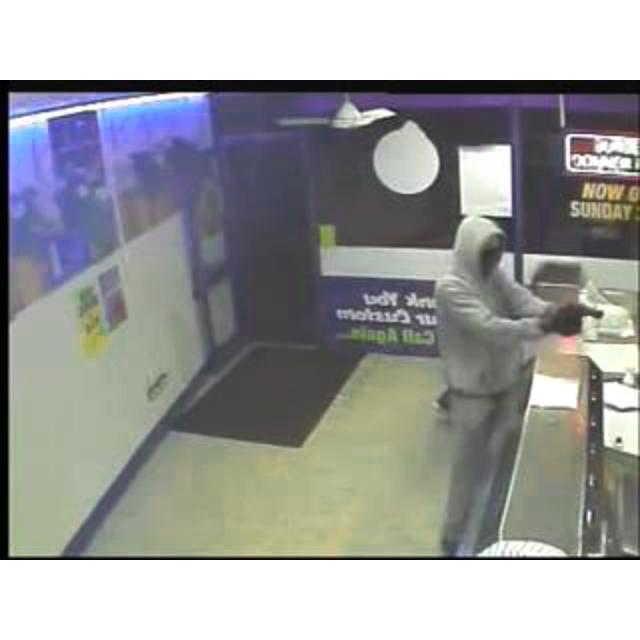criminal: (433, 214, 605, 556)
weapon: (556, 300, 606, 324)
